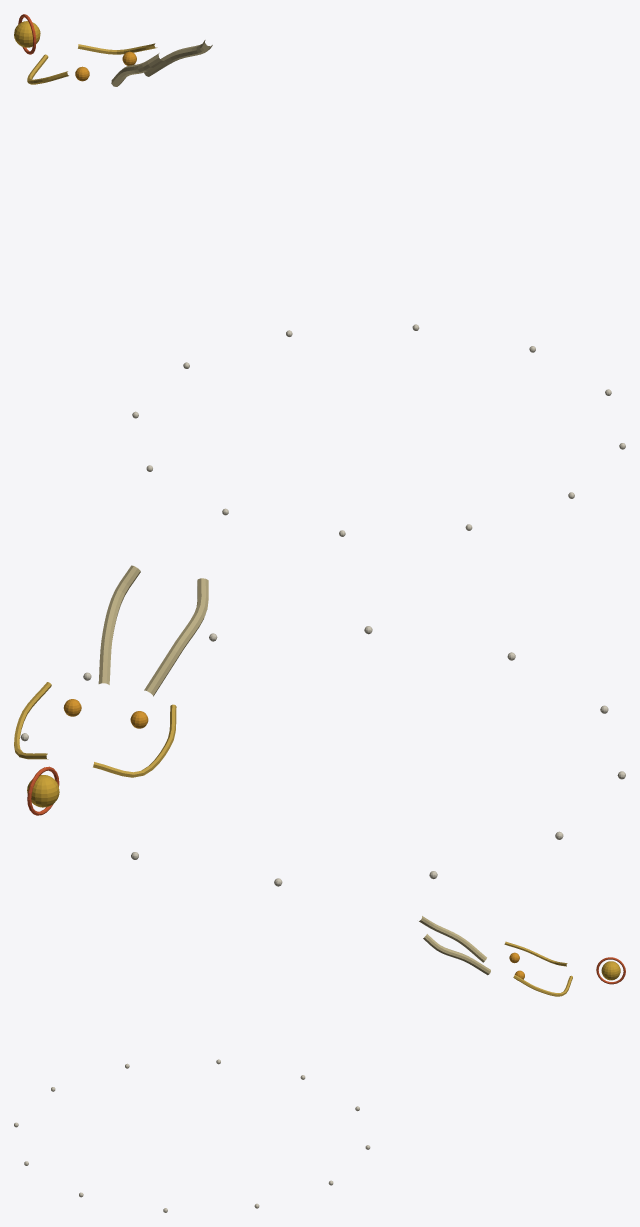
The model's file is thuytien-hero.glb.
The picture shows the model from 3 angles, top to bottom: view 1: azimuth 30°, elevation 25°; view 2: azimuth 150°, elevation 25°; view 3: azimuth 270°, elevation 25°; orthographic projection. The views are drawn at different scales.
Visible parts, largest first — view 1: thuytien_hero_ornaments; view 2: thuytien_hero_ornaments; view 3: thuytien_hero_ornaments.
Boxes of the visible parts, x1,y1,x2,y2 form: thuytien_hero_ornaments: (14, 14, 625, 536); thuytien_hero_ornaments: (14, 565, 625, 886); thuytien_hero_ornaments: (14, 916, 625, 1212).
Size of the model in its own units: 35.05 by 21.88 by 60.16.
